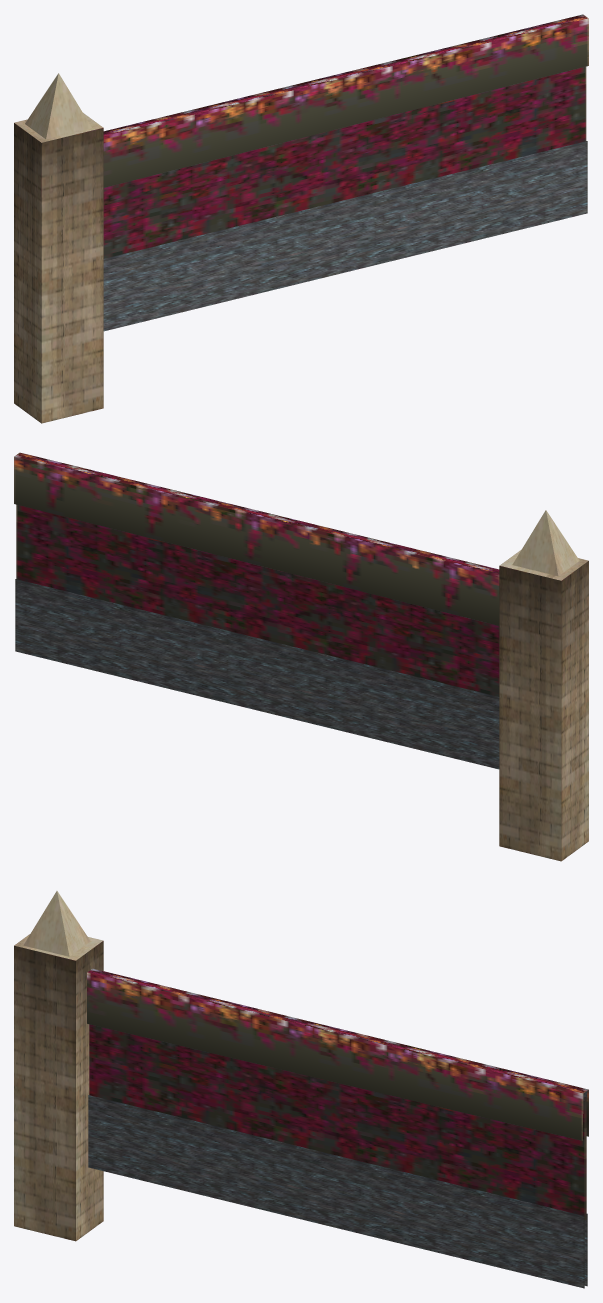
Rendered from thm_nboo_imprv_lattice_wall_long_s01_l3.fbx.
3 renders of one model, top to bottom at view 1: azimuth 30°, elevation 25°; view 2: azimuth 150°, elevation 25°; view 3: azimuth 330°, elevation 25°, orthographic.
Parts seen in each view (by area): view 1: mesh_node; view 2: mesh_node; view 3: mesh_node.
Part boxes in pixels (left/top/right/bottom): mesh_node: left=14, top=14, right=588, bottom=423; mesh_node: left=14, top=452, right=588, bottom=861; mesh_node: left=14, top=891, right=588, bottom=1288.
Bounding box in the file's own units: 9 × 5.14 × 0.7695.
